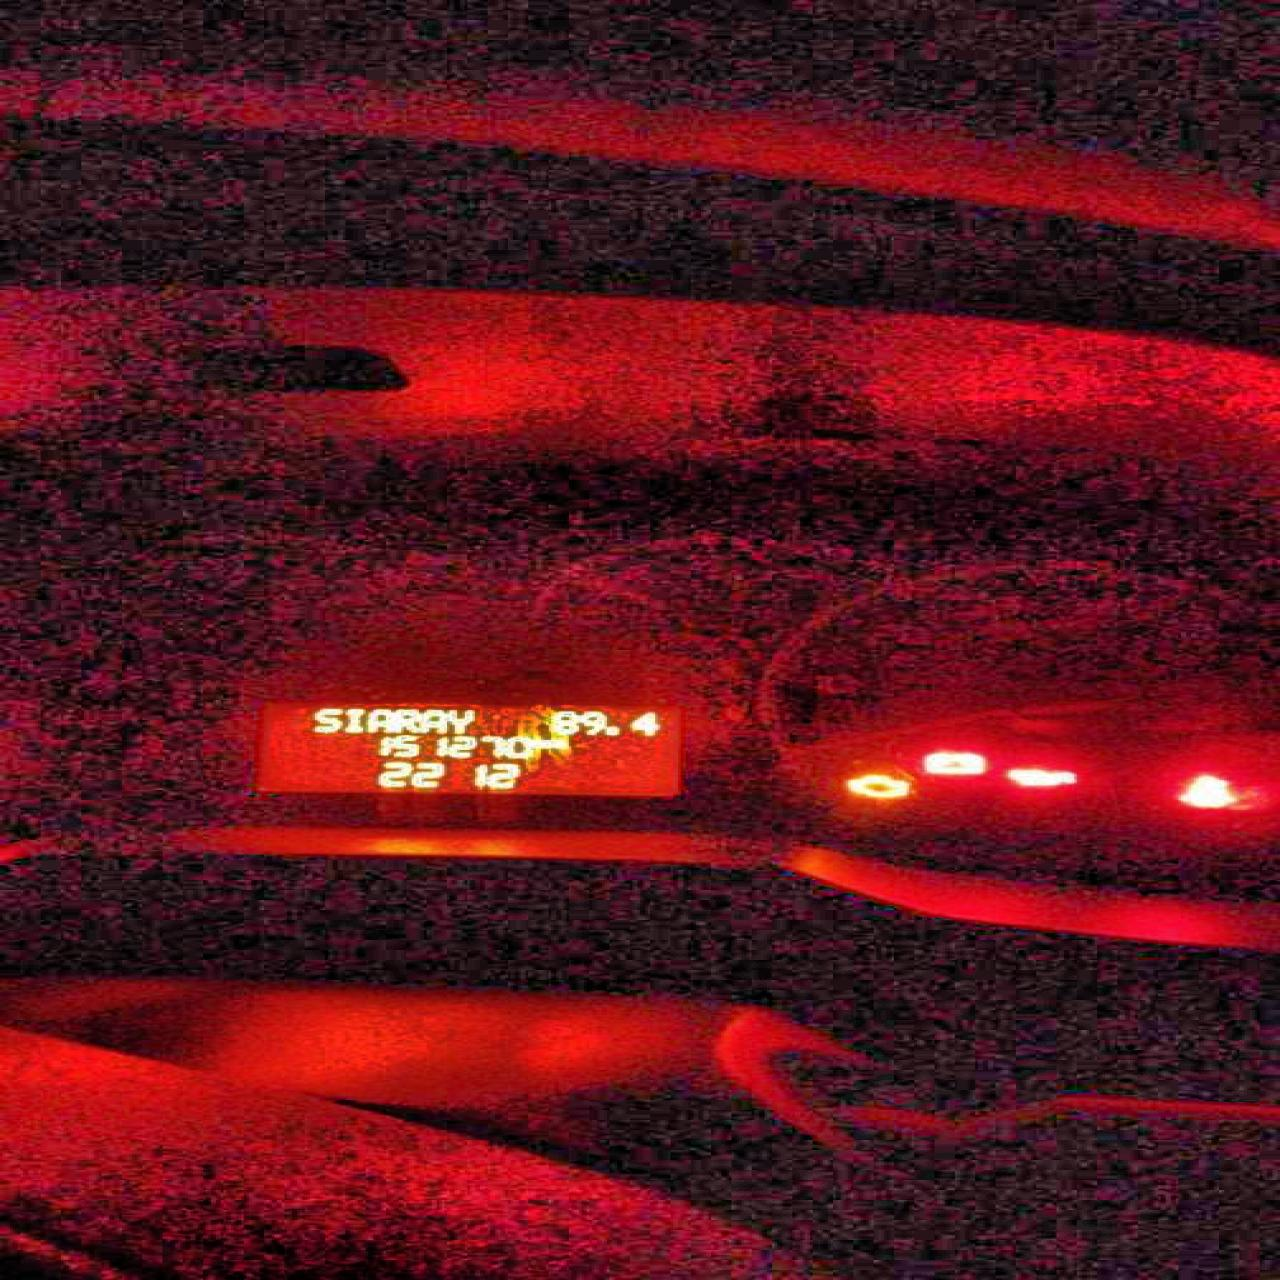-: (605, 726, 620, 735)
0: (505, 735, 536, 760)
1: (464, 762, 485, 788), (429, 735, 450, 756), (370, 735, 388, 756)
2: (373, 758, 409, 788), (485, 761, 520, 790), (409, 760, 444, 789), (449, 734, 477, 757)
4: (625, 709, 663, 736)
5: (388, 734, 422, 756)
7: (477, 734, 503, 757)
8: (546, 707, 579, 735)
9: (577, 709, 605, 736)
X: (305, 704, 340, 735), (418, 704, 447, 734), (363, 706, 392, 733), (447, 707, 475, 734), (394, 706, 420, 733), (342, 707, 363, 734), (549, 737, 572, 749), (533, 736, 549, 749)
odometer: (248, 697, 693, 798)
